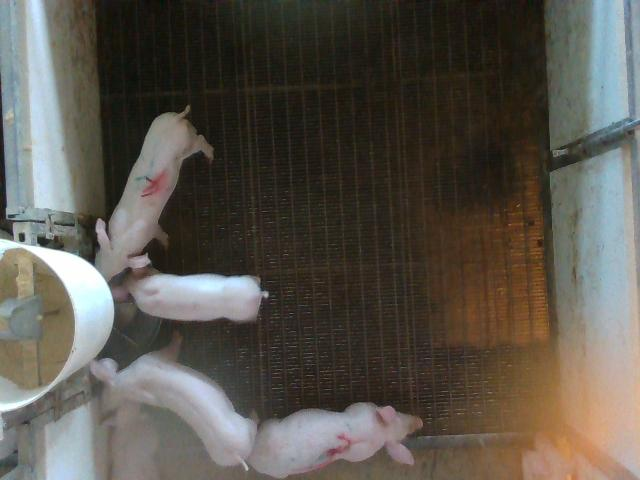pig-3: (248, 402, 422, 477)
pig-4: (95, 106, 214, 281)
